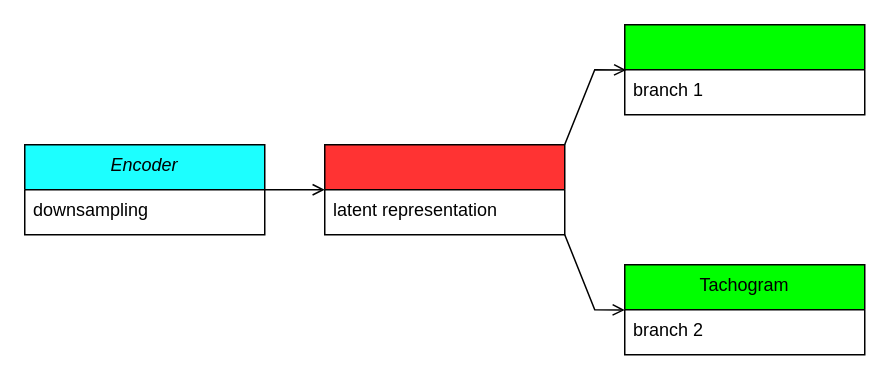
This 890x380 diagram has some shape labels left out. Here are the shapes that lost their labels. From the top down, the box of each, then its label:
(623, 23, 865, 115): Symbols
(323, 143, 565, 235): Core
